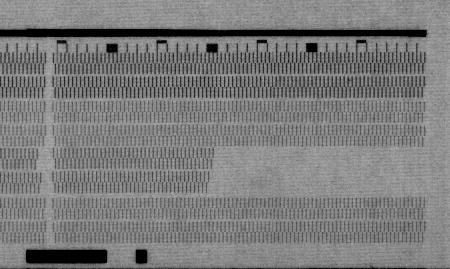Broken hole: (206, 147, 428, 193), (34, 148, 49, 171), (38, 172, 49, 196)
